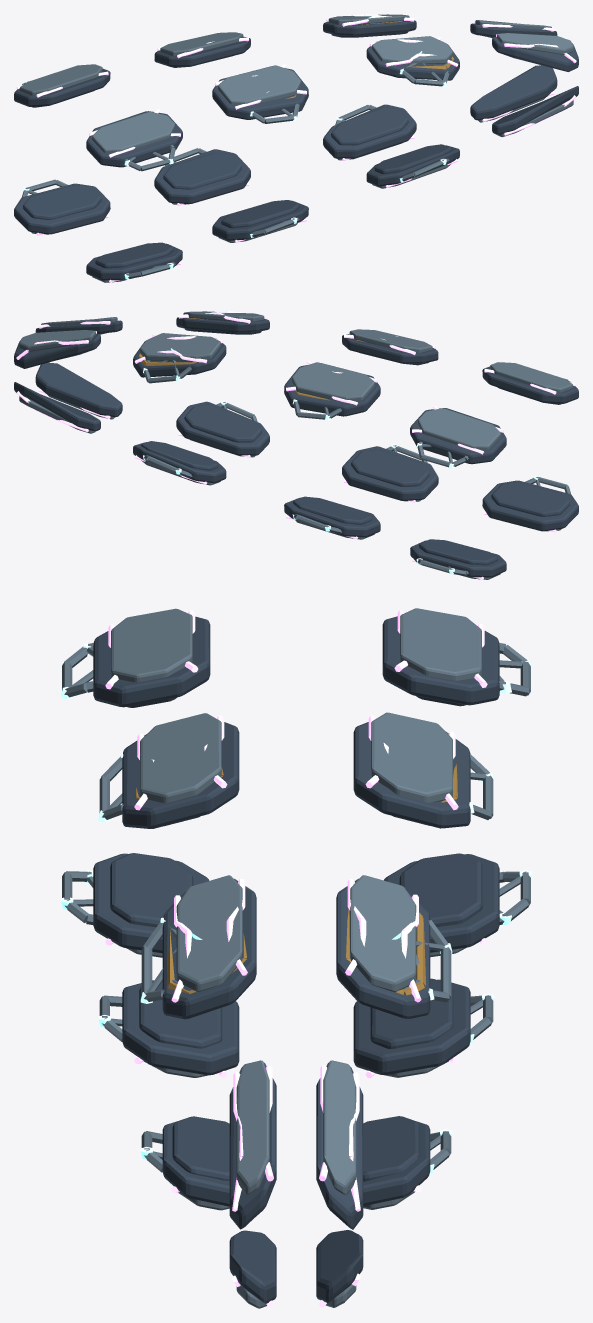
Rendered from plating.glb.
3 renders of one model, top to bottom at view 1: azimuth 30°, elevation 25°; view 2: azimuth 150°, elevation 25°; view 3: azimuth 270°, elevation 25°, orthographic. The views are drawn at different scales.
Visible parts, largest first — view 1: p_heavy Fitting gunmetal, p_heavy Brushed fitting edges, p_aegis Fitting gunmetal, p_light Brushed fitting edges, p_heavy p_heavy emitter, p_reactive Fitting gunmetal; view 2: p_heavy Fitting gunmetal, p_heavy Brushed fitting edges, p_aegis Fitting gunmetal, p_light Brushed fitting edges, p_heavy p_heavy emitter, p_light p_light emitter; view 3: p_heavy Fitting gunmetal, p_heavy Brushed fitting edges, p_aegis Fitting gunmetal, p_light Brushed fitting edges, p_heavy p_heavy emitter, p_aegis Champagne gold edging, p_light p_light emitter.
Boxes of the visible parts, x1,y1,x2,y2 form: p_heavy Fitting gunmetal: [14, 20, 578, 280]; p_heavy Brushed fitting edges: [19, 14, 573, 282]; p_aegis Fitting gunmetal: [23, 32, 451, 268]; p_light Brushed fitting edges: [21, 63, 449, 278]; p_heavy p_heavy emitter: [16, 14, 576, 282]; p_reactive Fitting gunmetal: [54, 131, 439, 266]; p_heavy Fitting gunmetal: [14, 317, 578, 577]; p_heavy Brushed fitting edges: [19, 311, 573, 579]; p_aegis Fitting gunmetal: [141, 328, 569, 565]; p_light Brushed fitting edges: [144, 360, 570, 575]; p_heavy p_heavy emitter: [16, 311, 576, 579]; p_light p_light emitter: [143, 368, 572, 574]; p_heavy Fitting gunmetal: [93, 616, 499, 1303]; p_heavy Brushed fitting edges: [111, 608, 481, 1308]; p_aegis Fitting gunmetal: [110, 696, 482, 1181]; p_light Brushed fitting edges: [62, 643, 530, 1172]; p_heavy p_heavy emitter: [105, 610, 487, 1307]; p_aegis Champagne gold edging: [135, 764, 457, 995]; p_light p_light emitter: [61, 643, 531, 1173].
Bounding box in the file's own units: 38.2 × 11.34 × 15.3.
